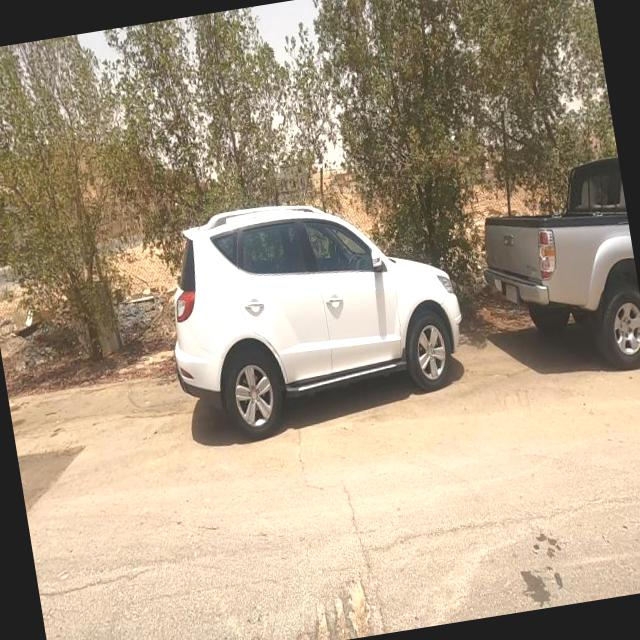debris: (78, 239, 194, 351), (0, 263, 86, 382)
